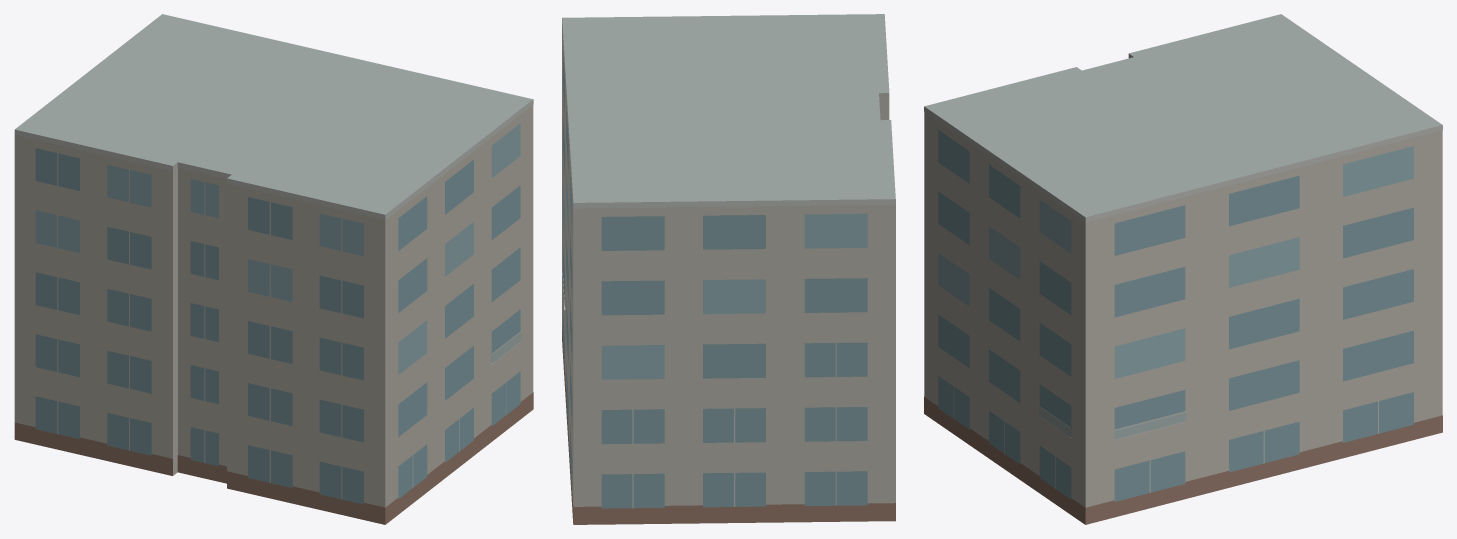
The model's file is survey-upis-32768937.glb.
3 renders of one model, left to right at view 1: azimuth 30°, elevation 25°; view 2: azimuth 150°, elevation 25°; view 3: azimuth 270°, elevation 25°, orthographic. The views are drawn at different scales.
Parts seen in each view (by area): view 1: survey-upis-32768937.tmp; view 2: survey-upis-32768937.tmp; view 3: survey-upis-32768937.tmp.
Boxes of the visible parts, x1,y1,x2,y2 form: survey-upis-32768937.tmp: (14,14,533,524); survey-upis-32768937.tmp: (562,14,895,524); survey-upis-32768937.tmp: (924,14,1442,524).
Bounding box in the file's own units: 19.72 × 13.9 × 21.25.
